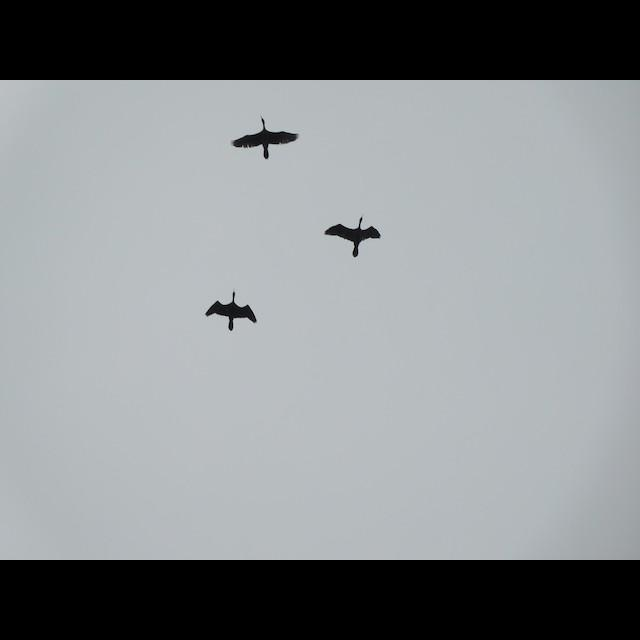cormorant: (319, 210, 389, 268), (223, 113, 301, 165), (200, 288, 262, 342)
